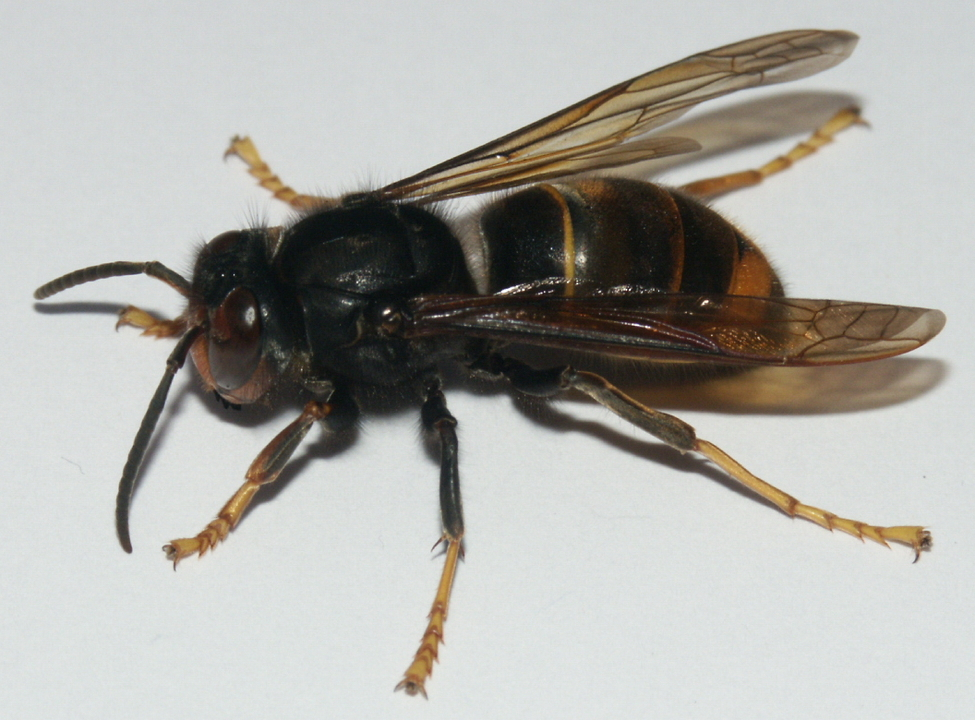hornet: (61, 66, 918, 527)
